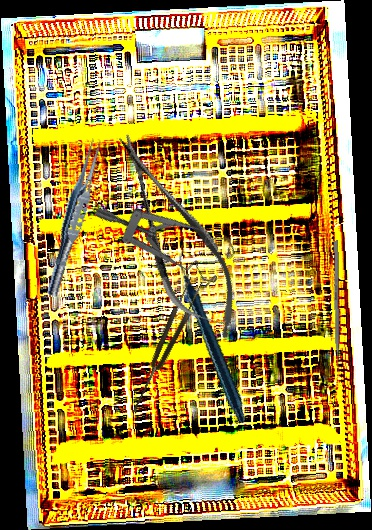Handpiece: (141, 247, 285, 425)
Micro Scissor: (96, 119, 257, 353)
Pusher: (333, 240, 341, 379)
Speculum: (91, 157, 245, 310)
Tissue Forceps: (124, 275, 206, 416), (42, 135, 107, 299)
